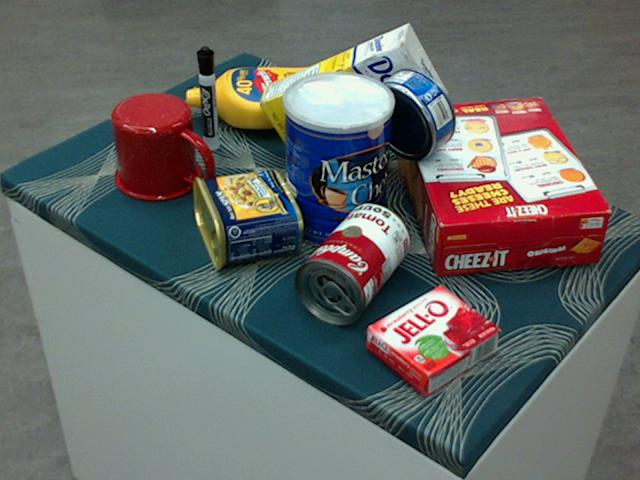cracker_box: (394, 96, 609, 275)
gelatin_box: (366, 285, 499, 394)
large_marker: (194, 45, 219, 150)
master_chef_can: (281, 72, 393, 251)
mug: (111, 92, 211, 201)
mustard_bottle: (184, 64, 353, 128)
potted_meat_can: (189, 168, 302, 270)
sugar_box: (255, 24, 446, 167)
tomato_soup_can: (291, 202, 410, 323)
tuna_fish_can: (368, 66, 456, 158)
